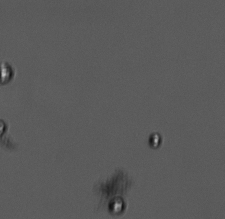Living Cell: (106, 195, 128, 215), (1, 62, 15, 87), (146, 131, 163, 149)
